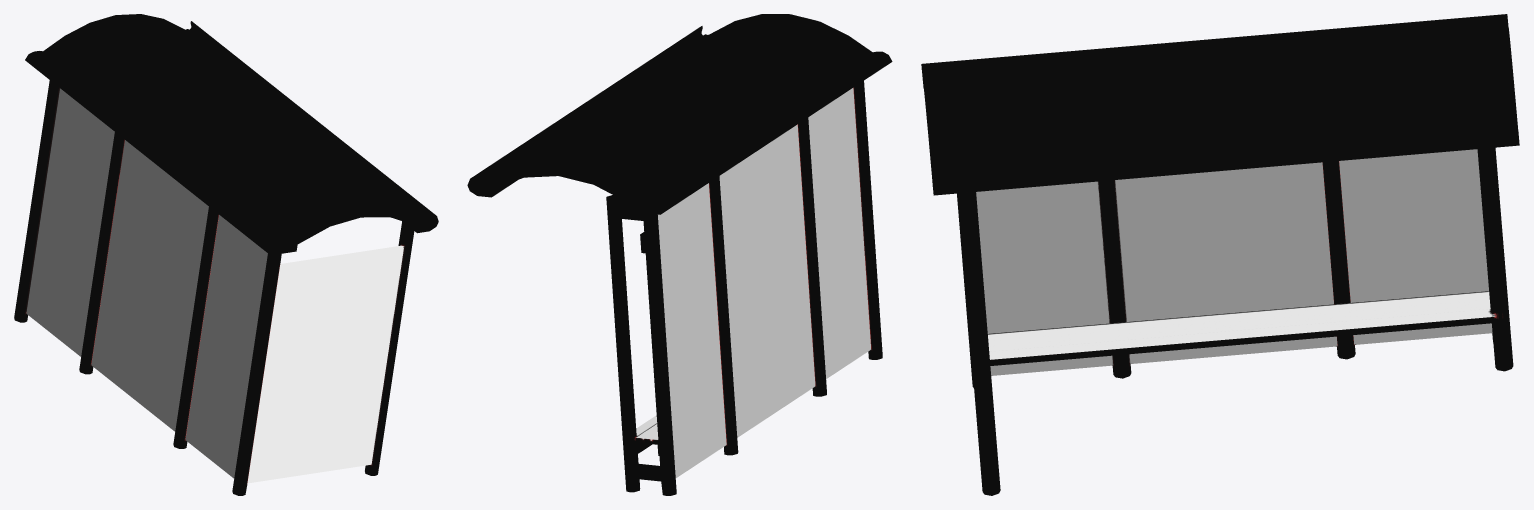
The picture shows the model from 3 angles, left to right: view 1: azimuth 30°, elevation 25°; view 2: azimuth 150°, elevation 25°; view 3: azimuth 270°, elevation 25°; orthographic projection. The views are drawn at different scales.
Parts seen in each view (by area): view 1: node_id11, node_id9, node_id5, node_id7; view 2: node_id11, node_id9, node_id7; view 3: node_id9, node_id11, node_id7, node_id5.
Boxes of the visible parts, x1,y1,x2,y2 form: node_id11: (26,88,267,478); node_id9: (25,14,438,255); node_id5: (247,245,404,483); node_id7: (14,80,414,495); node_id11: (658,88,871,478); node_id9: (467,14,892,214); node_id7: (606,81,882,495); node_id9: (921,14,1519,195); node_id11: (976,149,1492,375); node_id7: (957,147,1513,495); node_id5: (987,291,1495,359).
Bounding box in the file's own units: 0.2586 × 0.3975 × 0.5209.
4 materials, 4 textured.
